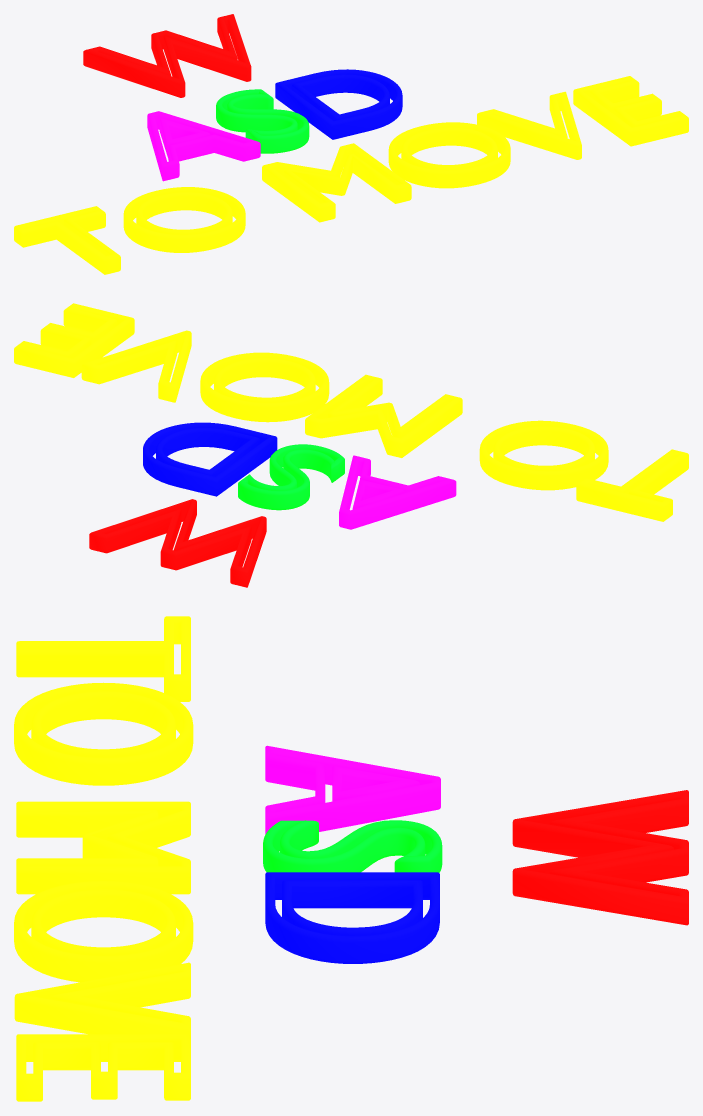
The model's file is wasd_to_move.gltf.
3 views of the same model, one above another, from view 1: azimuth 30°, elevation 25°; view 2: azimuth 150°, elevation 25°; view 3: azimuth 270°, elevation 25° (orthographic). The views are drawn at different scales.
Visible parts, largest first — view 1: Text; view 2: Text; view 3: Text.
Part boxes in pixels (bbox=[...]): Text: bbox=[14, 14, 688, 274]; Text: bbox=[14, 303, 688, 587]; Text: bbox=[14, 616, 688, 1101].
Size of the model in its own units: 4.39 by 0.12 by 2.71.
